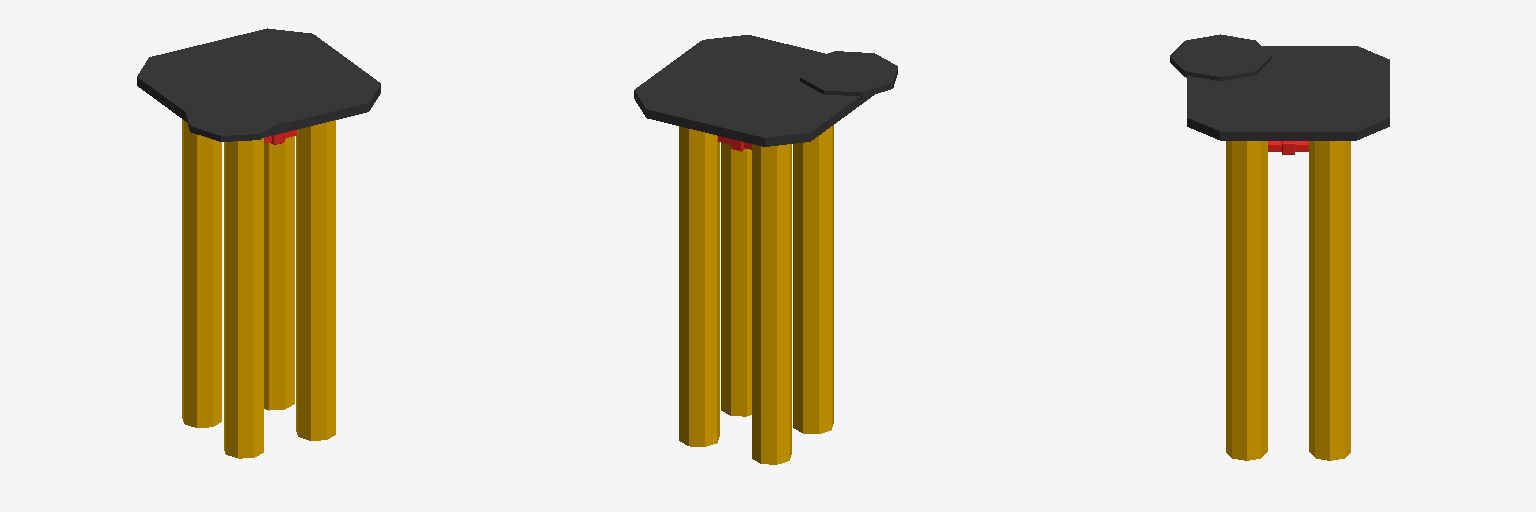
3 renders of one model, left to right at view 1: azimuth 30°, elevation 25°; view 2: azimuth 150°, elevation 25°; view 3: azimuth 270°, elevation 25°, orthographic.
Parts seen in each view (by area): view 1: Cube, Cylinder.004, Cylinder.001, Cylinder.003, Cylinder.002; view 2: Cube, Cylinder.002, Cylinder.003, Cylinder.004, Cylinder.001; view 3: Cube, Cylinder.001, Cylinder.002.
Part boxes in pixels (x1,y1,x2,y2): Cube: (137,28,380,141); Cylinder.004: (224,138,263,458); Cylinder.001: (296,120,335,440); Cylinder.003: (182,119,221,427); Cylinder.002: (264,136,294,410); Cube: (634,35,897,146); Cylinder.002: (679,126,719,446); Cylinder.003: (752,144,791,464); Cylinder.004: (793,125,833,433); Cylinder.001: (721,142,751,416); Cube: (1170,34,1389,140); Cylinder.001: (1226,141,1267,460); Cylinder.002: (1309,141,1350,460).
Size of the model in its own units: 6.5 by 11.39 by 6.5.
Materials: 6 (3 with a texture image).